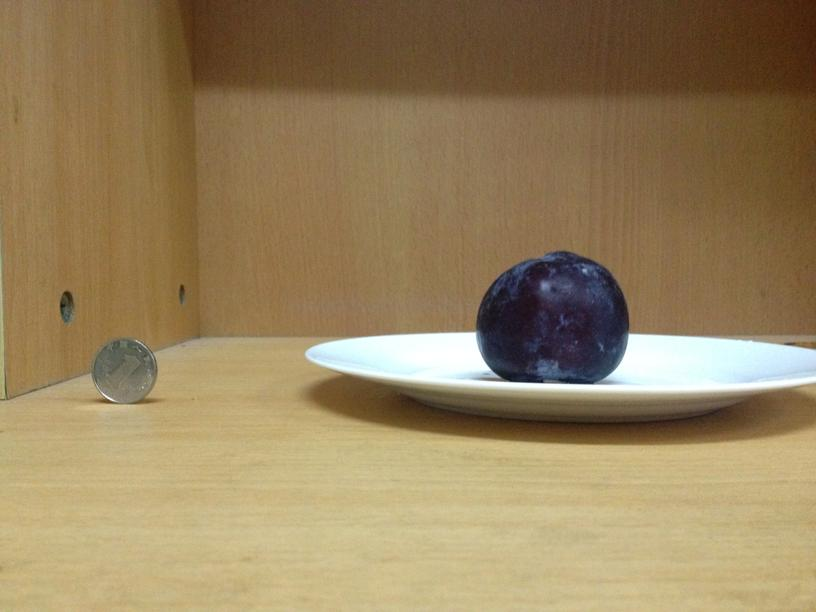coin: (87, 338, 157, 403)
plum: (477, 247, 631, 381)
